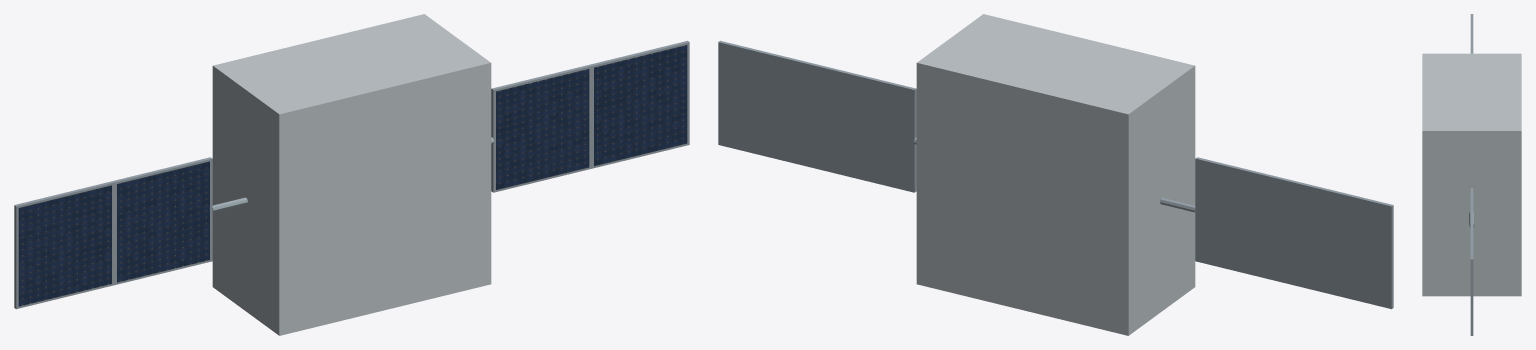
Rendered from ref-aries-59129.glb.
3 renders of one model, left to right at view 1: azimuth 30°, elevation 25°; view 2: azimuth 150°, elevation 25°; view 3: azimuth 270°, elevation 25°, orthographic. The views are drawn at different scales.
Visible parts, largest first — view 1: Spacecraft body, Photovoltaic laminates (×4), Array frame (×4); view 2: Spacecraft body, Array frame (×4); view 3: Spacecraft body, Array frame (×3).
Part boxes in pixels (<box>): Spacecraft body: <box>212,14,491,335</box>; Photovoltaic laminates (×4): <box>18,45,687,306</box>; Array frame (×4): <box>14,40,689,309</box>; Spacecraft body: <box>916,14,1195,335</box>; Array frame (×4): <box>718,40,1393,309</box>; Spacecraft body: <box>1422,53,1521,296</box>; Array frame (×3): <box>1470,14,1473,335</box>.
Bounding box in the file's own units: 3.5 × 1.1 × 0.6.
Materials: 3 (1 with a texture image).
